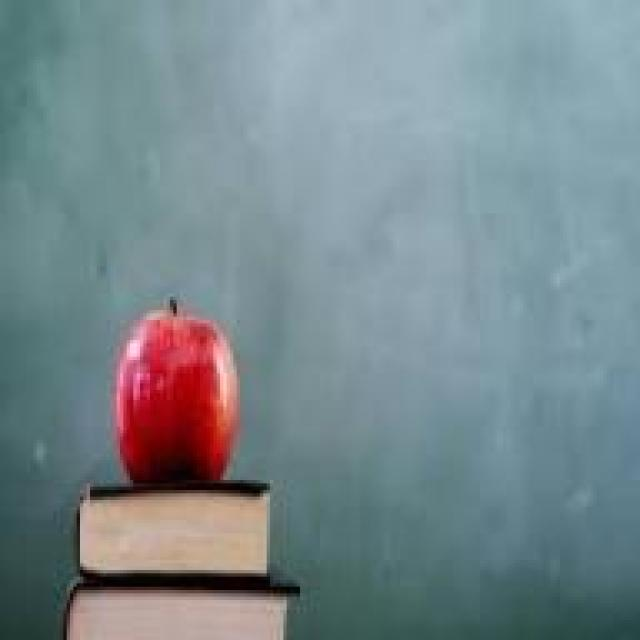apple: (113, 314, 237, 484)
